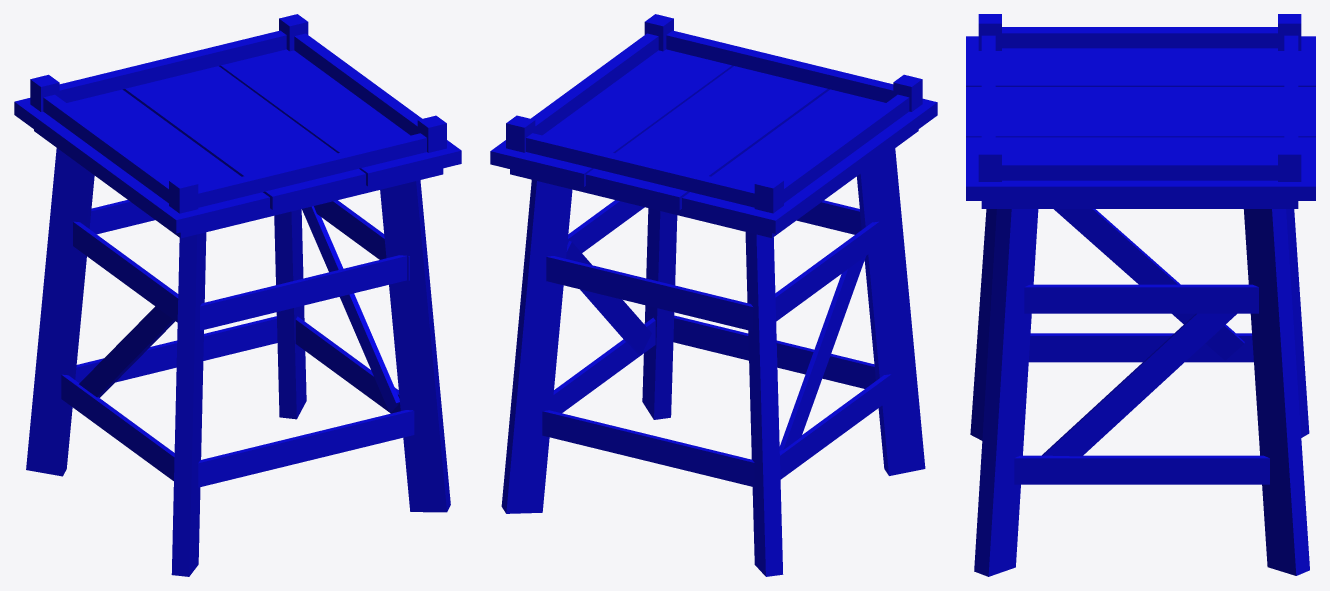
Rendered from Tour1 lvl1.fbx.
3 views of the same model, side by side, from view 1: azimuth 30°, elevation 25°; view 2: azimuth 150°, elevation 25°; view 3: azimuth 270°, elevation 25° (orthographic). The views are drawn at different scales.
Parts seen in each view (by area): view 1: Cube.396, Cube.385, Cube.390, Cube.386, Cube.389, Cube.384, Cube.391, Cube.402, Cube.394, Cube.388, Cube.404, Cube.401 (+11 smaller); view 2: Cube.396, Cube.385, Cube.388, Cube.386, Cube.391, Cube.384, Cube.389, Cube.404, Cube.392, Cube.390, Cube.402, Cube.405 (+11 smaller); view 3: Cube.385, Cube.396, Cube.388, Cube.384, Cube.390, Cube.386, Cube.403, Cube.393, Cube.585, Cube.401, Cube.405, Cube.391 (+6 smaller).
Part boxes in pixels (<box>): Cube.396: <box>43,30,426,207</box>; Cube.385: <box>122,66,365,209</box>; Cube.390: <box>380,180,450,512</box>; Cube.386: <box>14,89,269,233</box>; Cube.389: <box>26,148,94,476</box>; Cube.384: <box>219,49,461,186</box>; Cube.391: <box>171,232,206,576</box>; Cube.402: <box>198,410,414,487</box>; Cube.394: <box>200,255,407,330</box>; Cube.388: <box>274,209,306,419</box>; Cube.404: <box>75,316,277,382</box>; Cube.401: <box>61,374,174,480</box>; Cube.396: <box>526,30,909,207</box>; Cube.385: <box>586,66,829,210</box>; Cube.388: <box>501,180,572,513</box>; Cube.386: <box>682,89,937,233</box>; Cube.391: <box>856,148,925,475</box>; Cube.384: <box>490,49,733,186</box>; Cube.389: <box>745,232,783,576</box>; Cube.404: <box>542,410,754,487</box>; Cube.392: <box>546,256,753,331</box>; Cube.390: <box>642,208,677,419</box>; Cube.402: <box>673,315,875,388</box>; Cube.405: <box>779,256,865,450</box>; Cube.385: <box>966,87,1315,137</box>; Cube.396: <box>981,27,1298,180</box>; Cube.388: <box>1243,209,1309,575</box>; Cube.384: <box>966,137,1315,200</box>; Cube.390: <box>974,209,1038,576</box>; Cube.386: <box>966,36,1315,86</box>; Cube.403: <box>1014,455,1269,484</box>; Cube.393: <box>1024,284,1258,313</box>; Cube.585: <box>1042,313,1236,456</box>; Cube.401: <box>1028,333,1253,362</box>; Cube.405: <box>1054,209,1244,360</box>; Cube.391: <box>970,209,996,440</box>.
Size of the model in its own units: 82.09 by 107 by 80.73.
